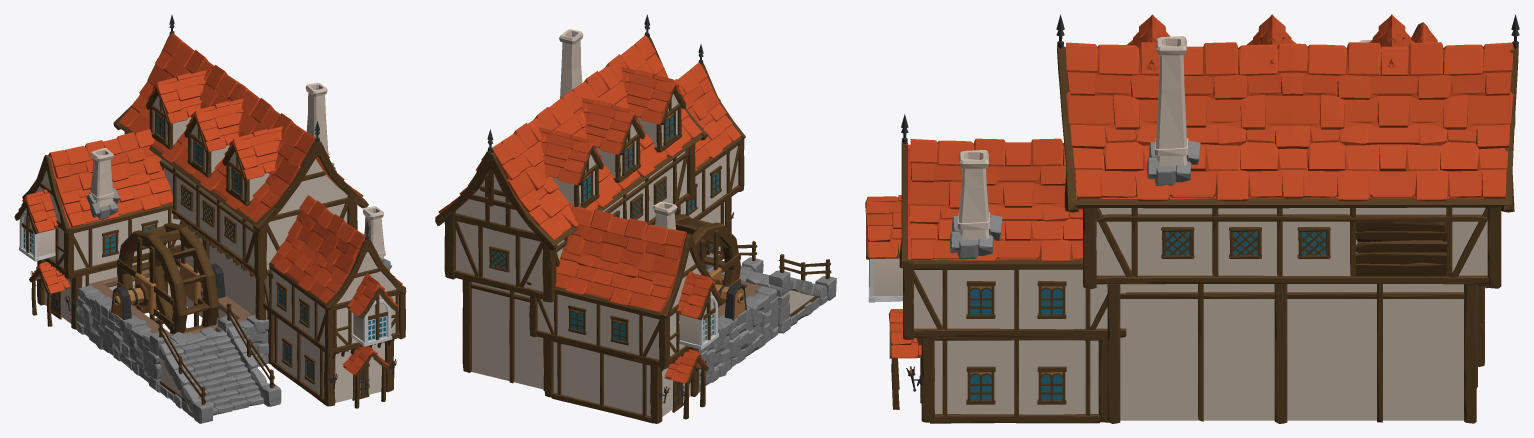
Rendered from SM_craftsguild.fbx.
3 renders of one model, left to right at view 1: azimuth 30°, elevation 25°; view 2: azimuth 150°, elevation 25°; view 3: azimuth 270°, elevation 25°, orthographic. The views are drawn at different scales.
Parts seen in each view (by area): view 1: Object32402; view 2: Object32402; view 3: Object32402.
Boxes of the visible parts, bbox=[...] form: Object32402: bbox=[14, 15, 406, 423]; Object32402: bbox=[435, 14, 836, 423]; Object32402: bbox=[865, 14, 1519, 423].
Bounding box in the file's own units: 584 × 599 × 919.
